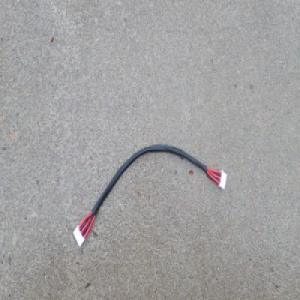Wire: (71, 141, 228, 250)
